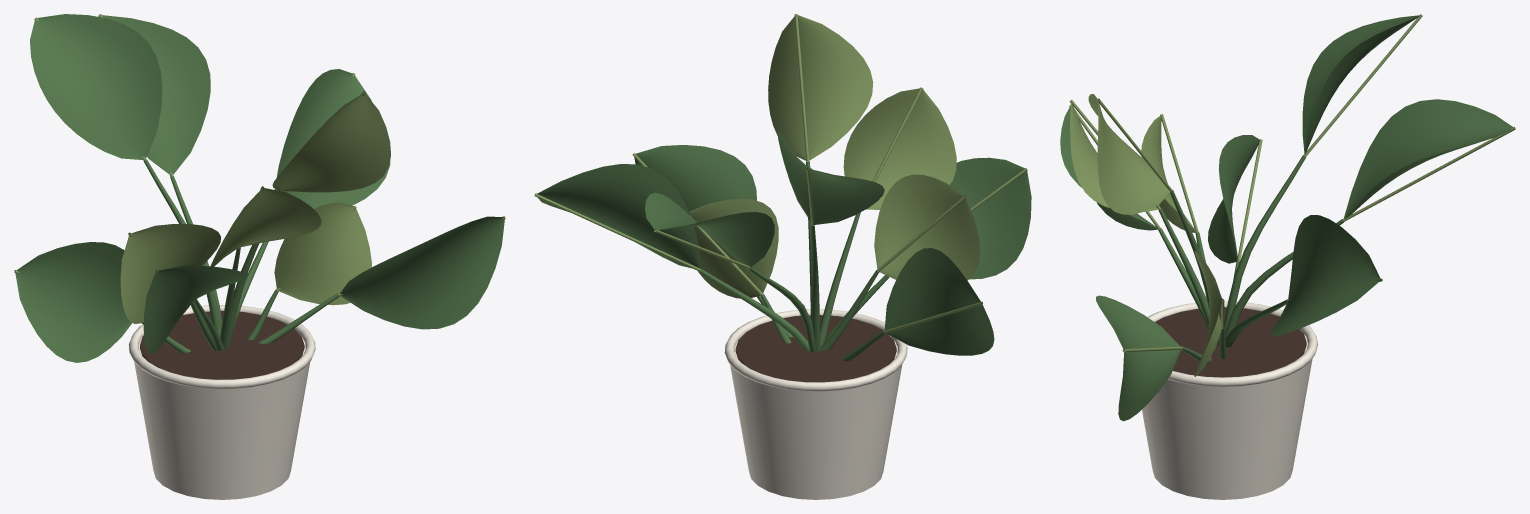
File: plant.glb
The picture shows the model from 3 angles, left to right: view 1: azimuth 30°, elevation 25°; view 2: azimuth 150°, elevation 25°; view 3: azimuth 270°, elevation 25°; orthographic projection. The views are drawn at different scales.
Parts seen in each view (by area): view 1: Plant_leaf, Plant_leafLight, Plant_cream, Plant_hair; view 2: Plant_leaf, Plant_leafLight, Plant_cream, Plant_hair; view 3: Plant_leaf, Plant_cream, Plant_leafLight, Plant_hair.
Part boxes in pixels (<box>): Plant_leaf: <box>15,14,504,362</box>; Plant_leafLight: <box>14,14,505,323</box>; Plant_cream: <box>128,305,315,499</box>; Plant_hair: <box>140,310,304,379</box>; Plant_leaf: <box>537,131,1031,361</box>; Plant_leafLight: <box>534,14,1027,333</box>; Plant_cream: <box>724,309,907,499</box>; Plant_hair: <box>735,315,896,382</box>; Plant_leaf: <box>1060,15,1514,421</box>; Plant_cream: <box>1142,301,1317,499</box>; Plant_leafLight: <box>1069,14,1515,376</box>; Plant_hair: <box>1155,307,1306,377</box>.
Bounding box in the file's own units: 1.25 × 1.15 × 1.14.
